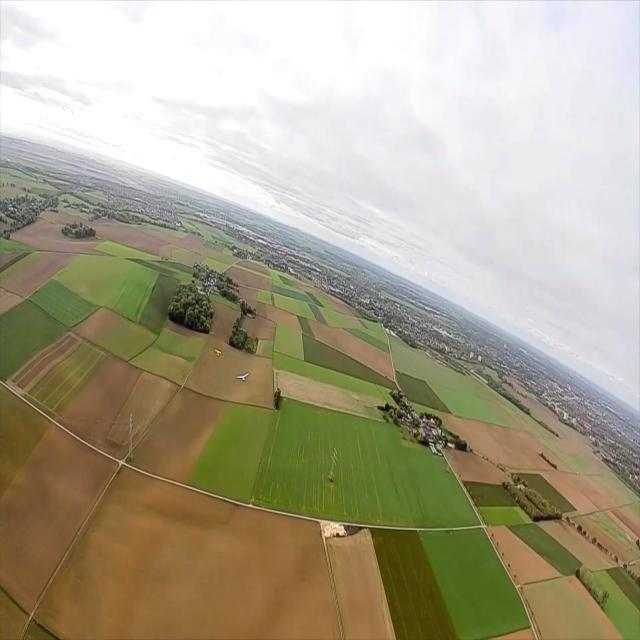iha: (233, 368, 251, 382)
